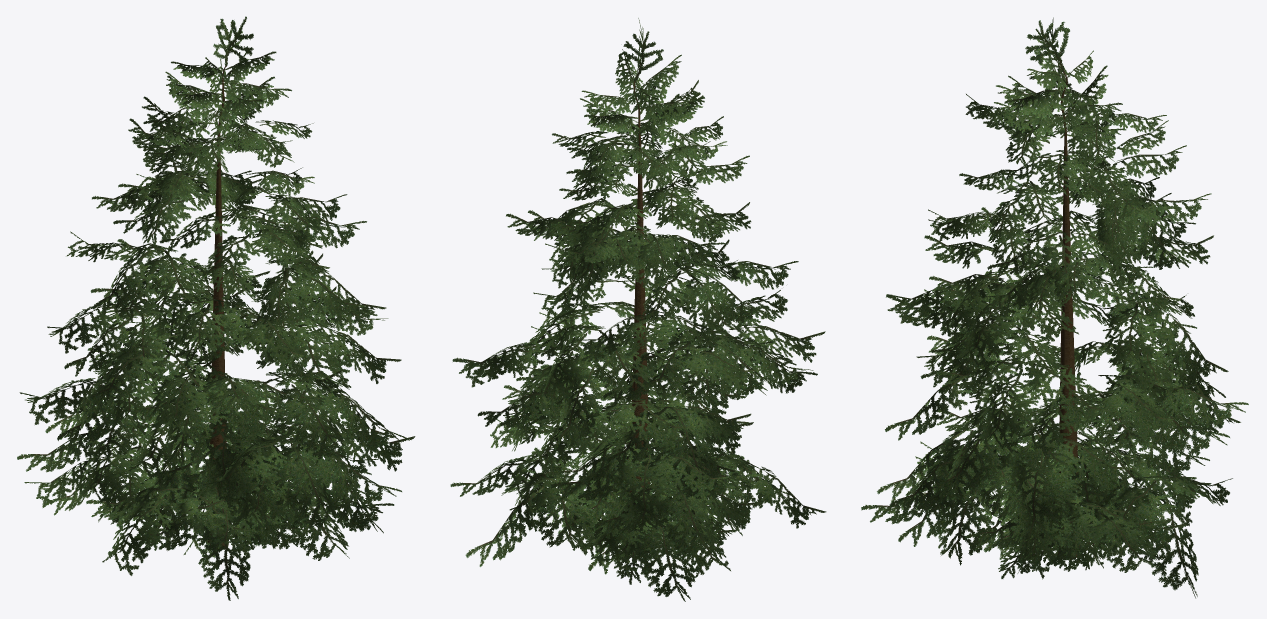
File: fir_christmas_tree_2_lod2.gltf
3 renders of one model, left to right at view 1: azimuth 30°, elevation 25°; view 2: azimuth 150°, elevation 25°; view 3: azimuth 270°, elevation 25°, orthographic. The views are drawn at different scales.
Parts seen in each view (by area): view 1: Christmas tree_2_LOD2_Brunches_Mat_0, Christmas tree_2_LOD2_Bark_Mat_0; view 2: Christmas tree_2_LOD2_Brunches_Mat_0, Christmas tree_2_LOD2_Bark_Mat_0; view 3: Christmas tree_2_LOD2_Brunches_Mat_0, Christmas tree_2_LOD2_Bark_Mat_0.
Boxes of the visible parts, x1,y1,x2,y2 form: Christmas tree_2_LOD2_Brunches_Mat_0: [17, 16, 415, 600]; Christmas tree_2_LOD2_Bark_Mat_0: [207, 66, 228, 548]; Christmas tree_2_LOD2_Brunches_Mat_0: [450, 18, 826, 601]; Christmas tree_2_LOD2_Bark_Mat_0: [629, 81, 649, 553]; Christmas tree_2_LOD2_Brunches_Mat_0: [861, 17, 1248, 598]; Christmas tree_2_LOD2_Bark_Mat_0: [1057, 72, 1079, 558].
Bounding box in the file's own units: 2.72 × 4.16 × 2.73.
Materials: 2 (2 with a texture image).
